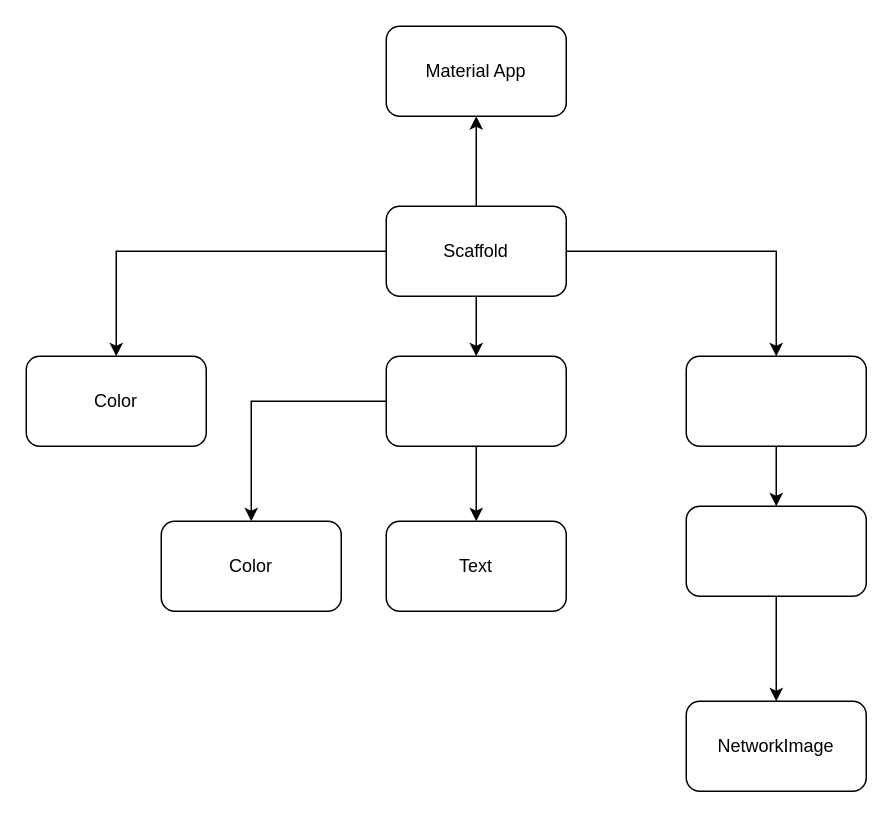
The diagram is 893 pixels wide and 818 high, and some of its shapes have lost their labels. The box of each missing label's shape, as (x1, y1, x2, y2) in pixels:
AppBar: (385, 355, 566, 446)
Centre: (685, 355, 866, 446)
Image: (685, 505, 866, 596)
